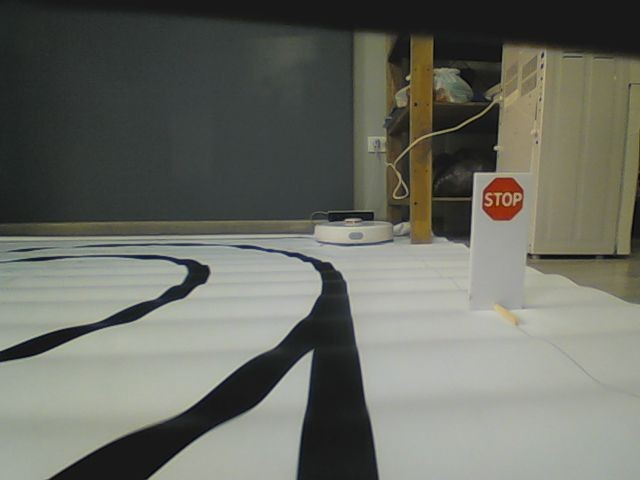Stop: (480, 176, 525, 221)
